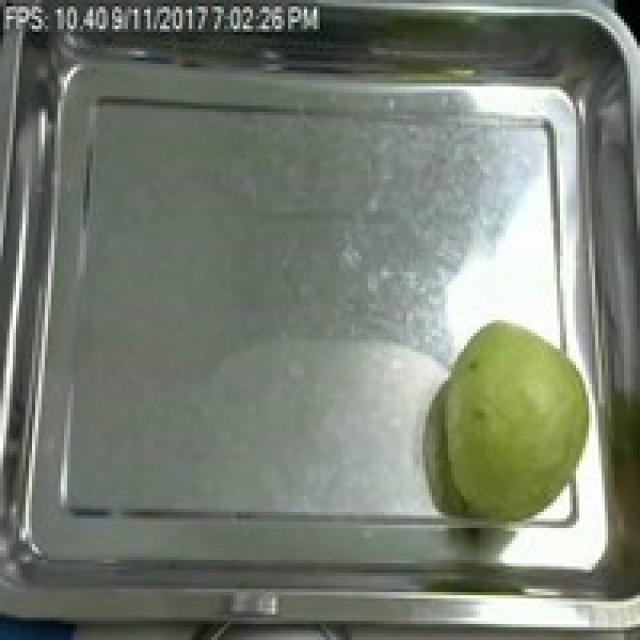Fruit: (422, 317, 608, 531)
